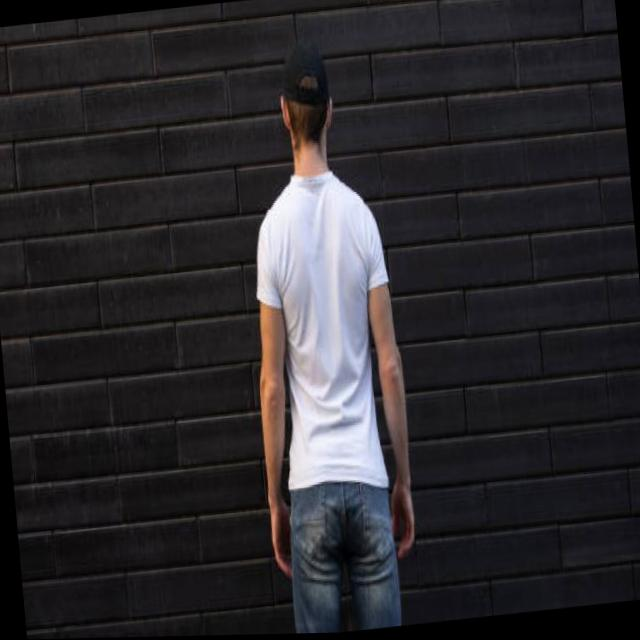no helmet: (267, 38, 345, 175)
